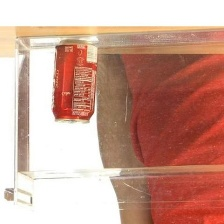can: (41, 37, 105, 130)
